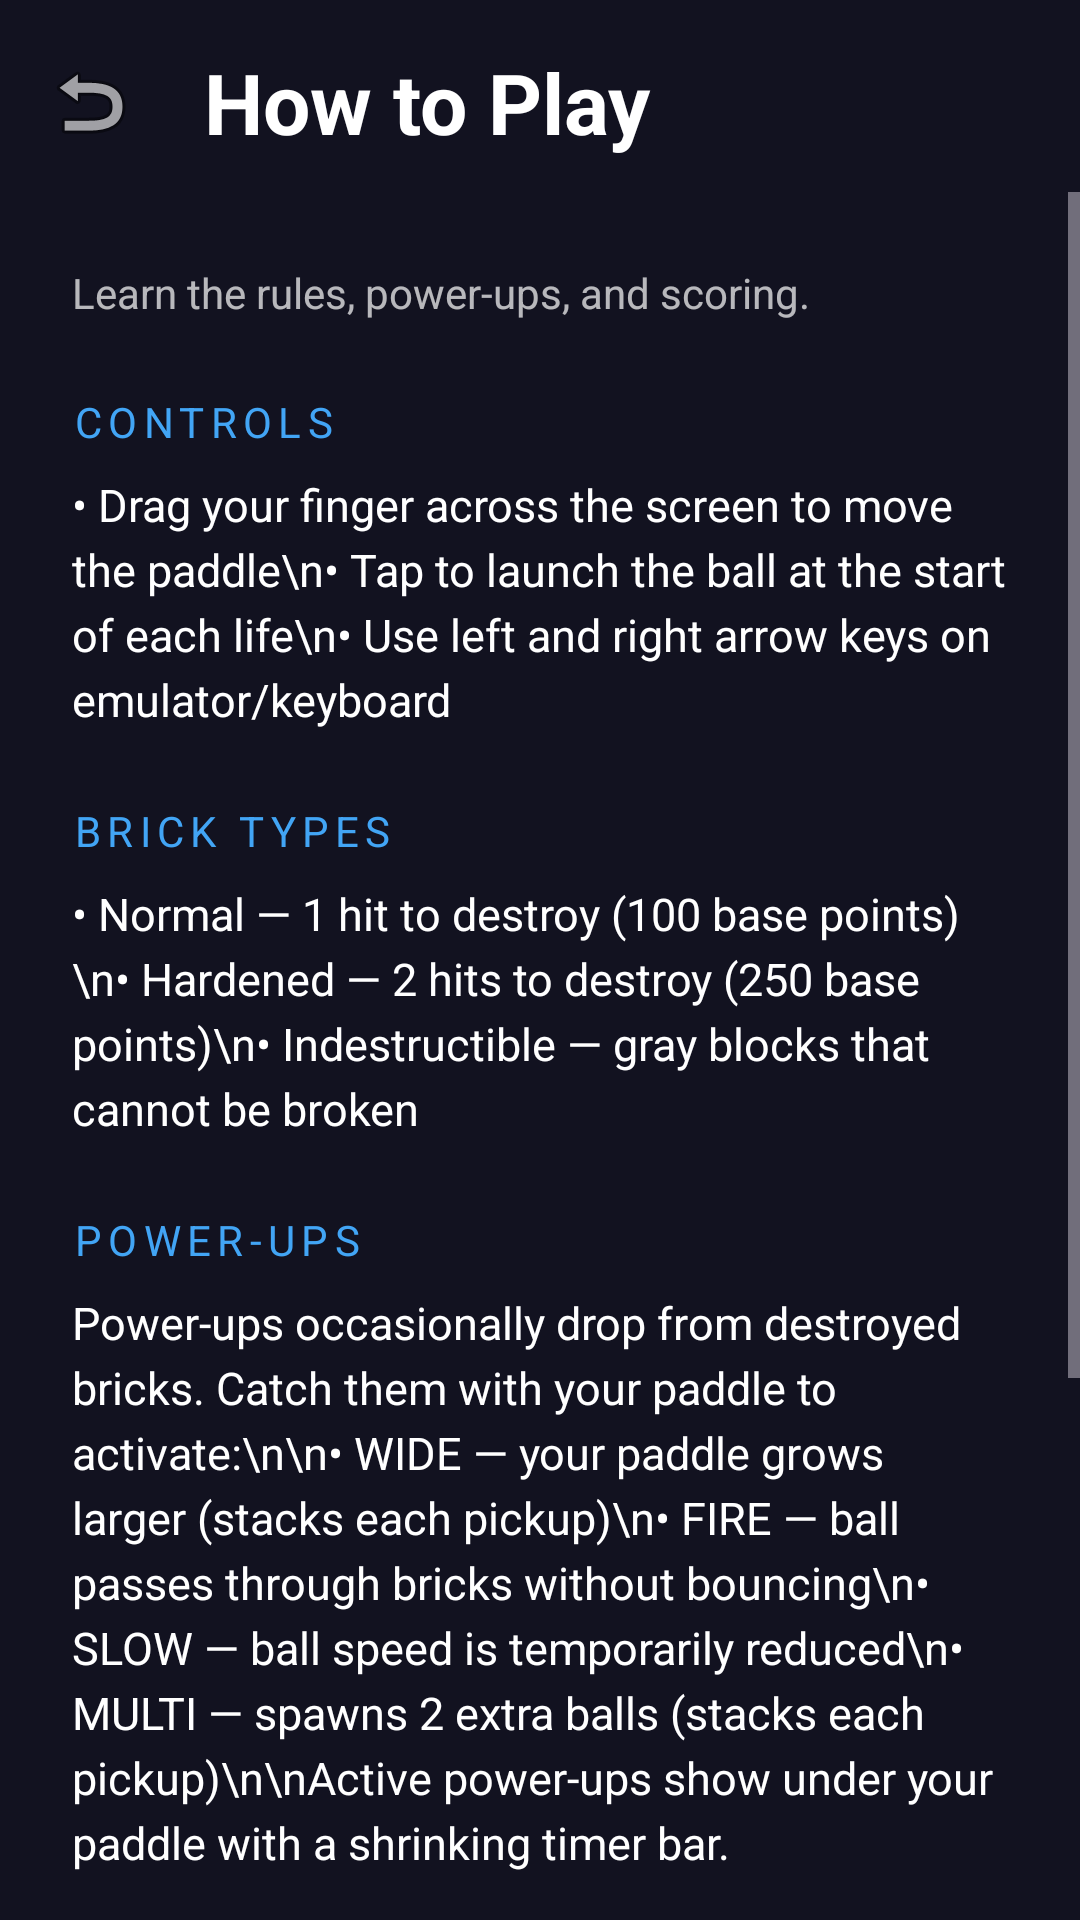

Icons on this 1080×1920 Android screen, each with its box as (x1, y1, x2, y2):
Back: (60, 74, 123, 131)
